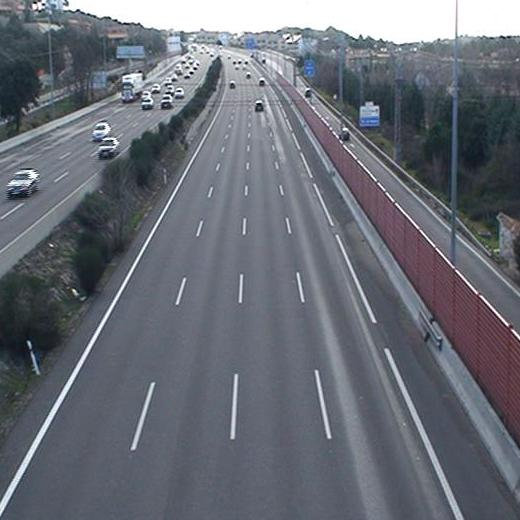car: (254, 100, 265, 113)
